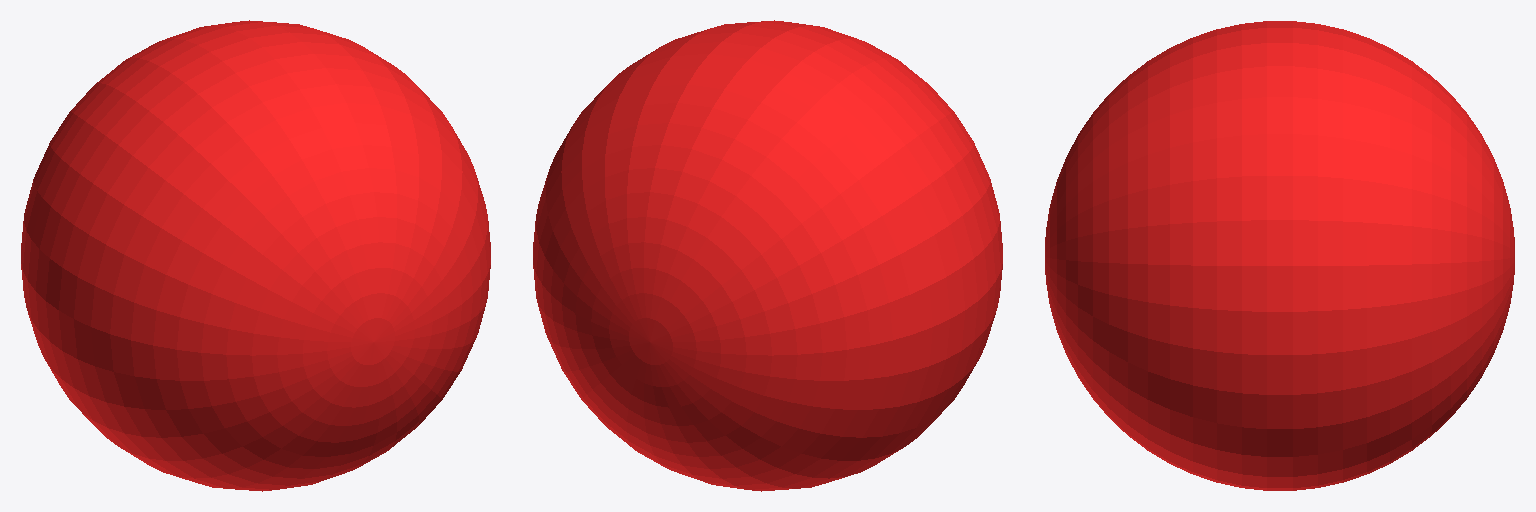
URDF robot description (urdf_robot):
<?xml version="0.0" ?>
<robot name="urdf_robot">
  <link name="baseLink">
    <inertial>
      <origin rpy="0 0 0" xyz="0 0 0"/>
       <mass value="0.0"/>
       <inertia ixx="1" ixy="0" ixz="0" iyy="1" iyz="0" izz="1"/>
    </inertial>
    <visual>
      <origin rpy="0 0 0" xyz="0 0 0"/>
      <geometry>
				<mesh filename="sphere_smooth.obj" scale="0.5 0.5 0.5"/>      
      </geometry>
      <material name="red">
        <color rgba="1 0.2 0.2 1"/>
        <specular rgb="1 1 1"/>
      </material>
    </visual>
  </link>
</robot>

--- What the picture shows (computed from the rendered views, not written in the file) ---
Views: 3 orthographic renders of the robot side by side, from view 1: azimuth 30°, elevation 25°; view 2: azimuth 150°, elevation 25°; view 3: azimuth 270°, elevation 25°.
Model urdf_robot with 1 links and 0 joints (none), rooted at baseLink, posed every joint at zero.
Links seen in each view (by area): view 1: baseLink; view 2: baseLink; view 3: baseLink.
Link boxes in pixels (bbox=[...]): baseLink: bbox=[21, 20, 490, 491]; baseLink: bbox=[533, 20, 1002, 491]; baseLink: bbox=[1045, 21, 1514, 490].
Size in the robot's own frame: 0.9985 by 1 by 0.9985 metres.
Meshes: 1 distinct files referenced, 1 mesh visuals loaded (1 OBJ).